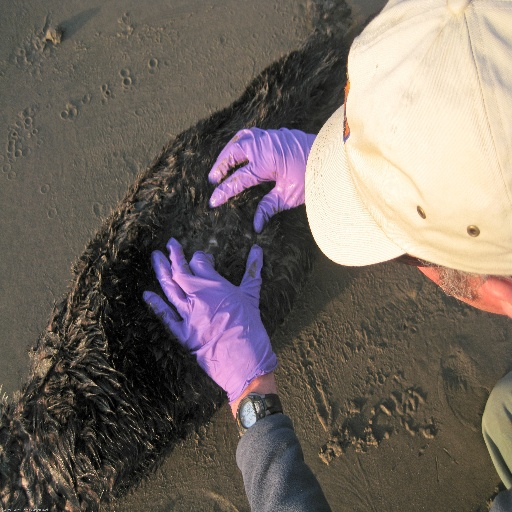hand: (147, 238, 278, 423), (207, 125, 318, 235)
